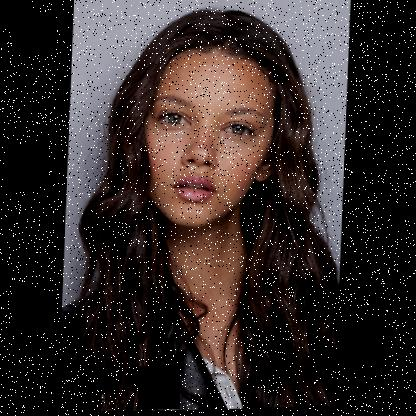Female: (139, 48, 280, 230)
